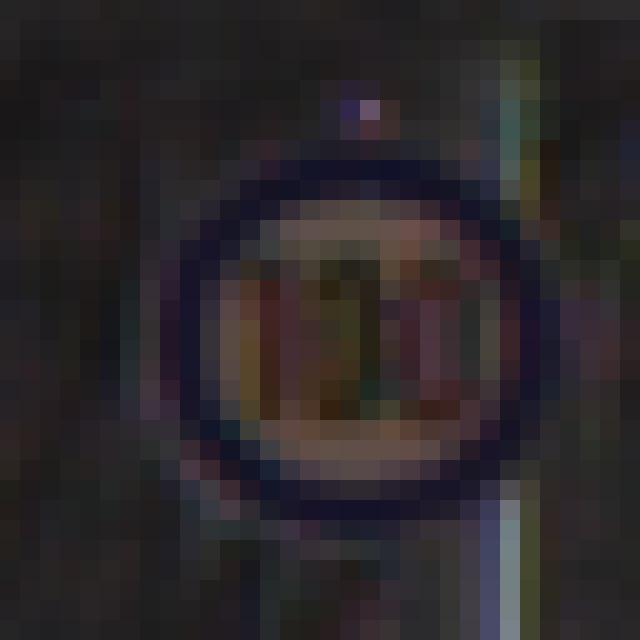SPEED LIMIT 100: (151, 147, 544, 520)
